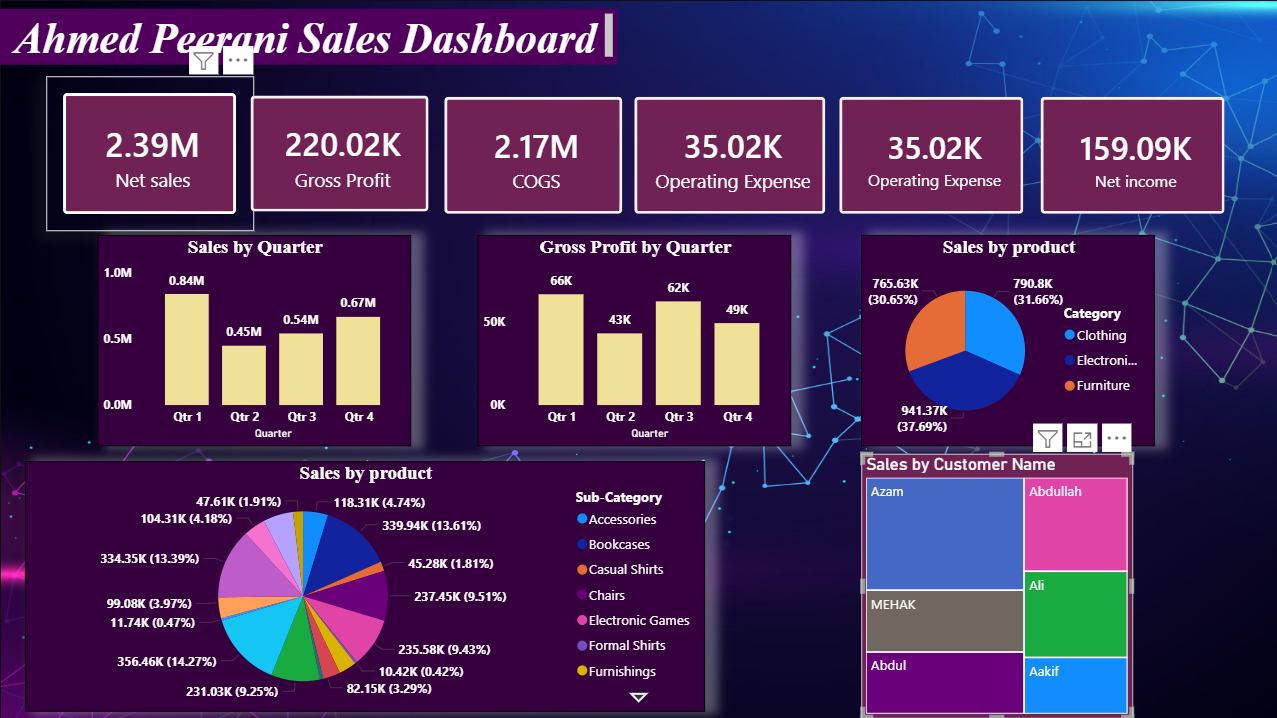

The dashboard page shown, as its layout file describes it:
{"tool":"powerbi","page":{"name":"Dashboard","canvas":[1280,720],"ordinal":0},"visuals":[{"type":"textbox","box":[0,8.8,617.5,56.2],"z":0},{"type":"cardVisual","fields":{"Data":["Sum(Details.Net sales)"]},"box":[46.2,76.2,207.5,155],"z":1000},{"type":"cardVisual","fields":{"Data":["Sum(Details.GROSS PROFIT )"]},"box":[233.8,78.8,212.5,150],"z":2000},{"type":"cardVisual","fields":{"Data":["Sum(Details.COGS)"]},"box":[427.5,80,212.5,151.2],"z":3000},{"type":"cardVisual","fields":{"Data":["Sum(Details.Operating expense )"]},"box":[617.5,80,225,151.2],"z":4000},{"type":"cardVisual","fields":{"Data":["Sum(Details.Operating expense )"]},"box":[822.5,80,218.8,151.2],"z":5000},{"type":"cardVisual","fields":{"Data":["Sum(Details.Net income)"]},"box":[1023.8,80,218.8,151.2],"z":6000},{"type":"columnChart","title":"Sales by Quarter","fields":{"Category":["AMAZON STORE SALES ORDER.Order Date.Variation.Date Hierarchy.Quarter"],"Y":["Sum(Details.Sales)"]},"box":[97.5,235,313.8,211.2],"z":7000},{"type":"columnChart","title":"Gross Profit by Quarter","fields":{"Category":["AMAZON STORE SALES ORDER.Order Date.Variation.Date Hierarchy.Quarter"],"Y":["Sum(Details.GROSS PROFIT )"]},"box":[477.5,235,313.8,211.2],"z":8000},{"type":"pieChart","title":"Sales by product","fields":{"Y":["Sum(Details.Sales)"],"Series":["Details.Category"]},"box":[861.2,235,293.8,211.2],"z":9000},{"type":"pieChart","title":"Sales by product","fields":{"Y":["Sum(Details.Sales)"],"Series":["Details.Sub-Category"]},"box":[25,461.2,680,250],"z":10000},{"type":"treemap","title":"Sales by Customer Name","fields":{"Values":["Sum(Details.Sales)"],"Details":["AMAZON STORE SALES ORDER.CustomerName"]},"box":[842.5,453.8,271.2,265],"z":11000},{"type":"slicer","fields":{"Values":["AMAZON STORE SALES ORDER.City "]},"box":[842.5,18.8,365,61.2],"z":11001}]}

Visuals, with their boxes in screenshot pixels (x1, y1, x2, y2), scaled from the page's 1280x720 canvas onto the 1277x718 screenshot:
textbox: 0:9:616:65
cardVisual - Sum(Details.Net sales): 46:76:253:231
cardVisual - Sum(Details.GROSS PROFIT ): 233:79:445:228
cardVisual - Sum(Details.COGS): 426:80:638:231
cardVisual - Sum(Details.Operating expense ): 616:80:841:231
cardVisual - Sum(Details.Operating expense ): 821:80:1039:231
cardVisual - Sum(Details.Net income): 1021:80:1240:231
"Sales by Quarter" columnChart: 97:234:410:445
"Gross Profit by Quarter" columnChart: 476:234:789:445
"Sales by product" pieChart: 859:234:1152:445
"Sales by product" pieChart: 25:460:703:709
"Sales by Customer Name" treemap: 841:453:1111:717
slicer - AMAZON STORE SALES ORDER.City : 841:19:1205:80
